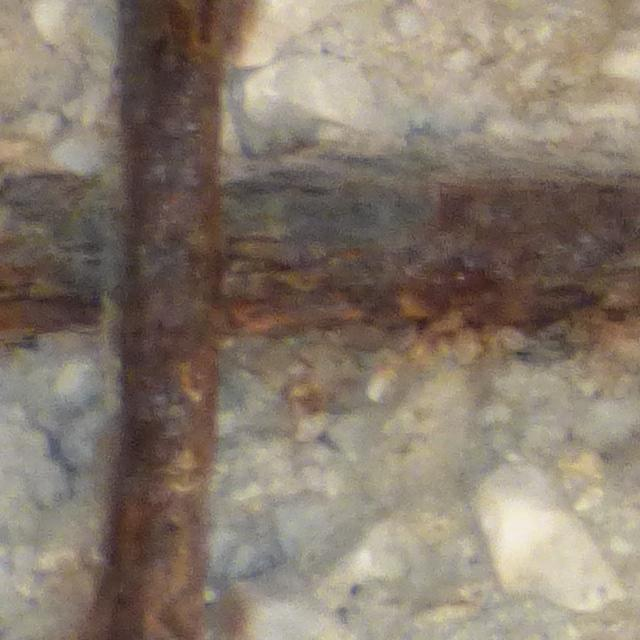Rust: (107, 1, 224, 607)
